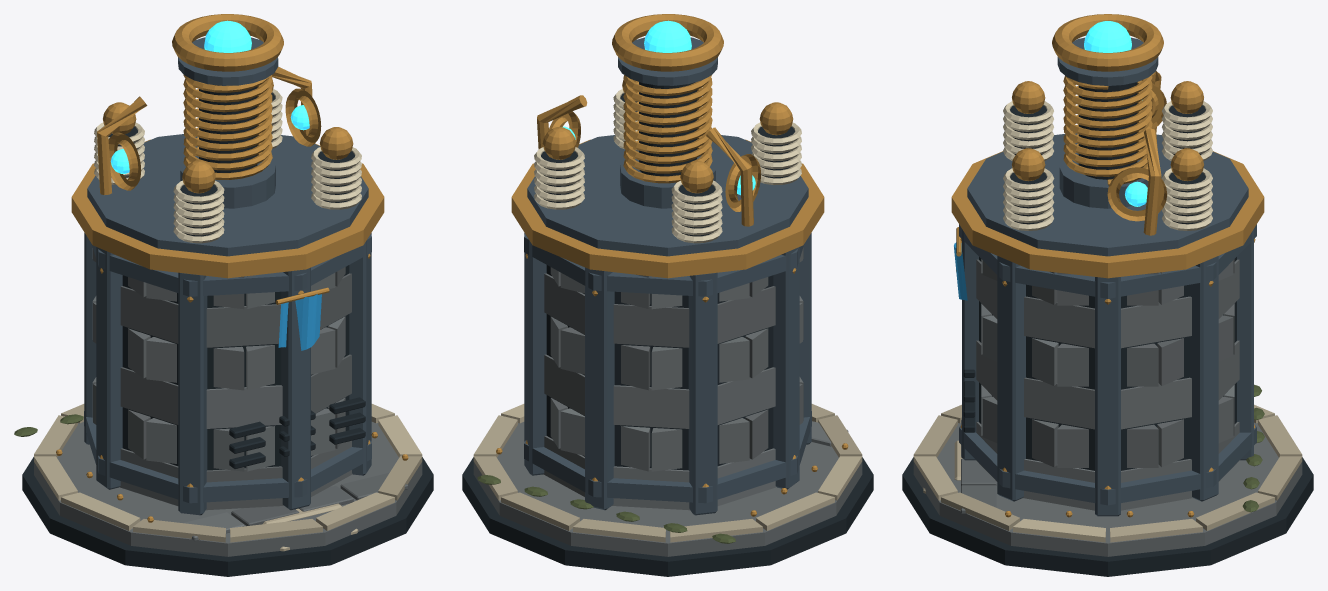
Rendered from lightning__corrente__L20.glb.
The picture shows the model from 3 angles, left to right: view 1: azimuth 30°, elevation 25°; view 2: azimuth 150°, elevation 25°; view 3: azimuth 270°, elevation 25°; orthographic projection.
Parts seen in each view (by area): view 1: structure, weapon, banners; view 2: structure, weapon; view 3: structure, weapon, banners.
Boxes of the visible parts, x1=… form: structure: x1=14, y1=67, x2=433, y2=576; weapon: x1=172, y1=14, x2=283, y2=208; banners: x1=275, y1=287, x2=329, y2=350; structure: x1=462, y1=79, x2=873, y2=576; weapon: x1=612, y1=14, x2=723, y2=208; structure: x1=902, y1=71, x2=1313, y2=576; weapon: x1=1052, y1=14, x2=1163, y2=208; banners: x1=954, y1=227, x2=967, y2=300.
Size of the model in its own units: 0.8624 by 1.08 by 0.8624.
